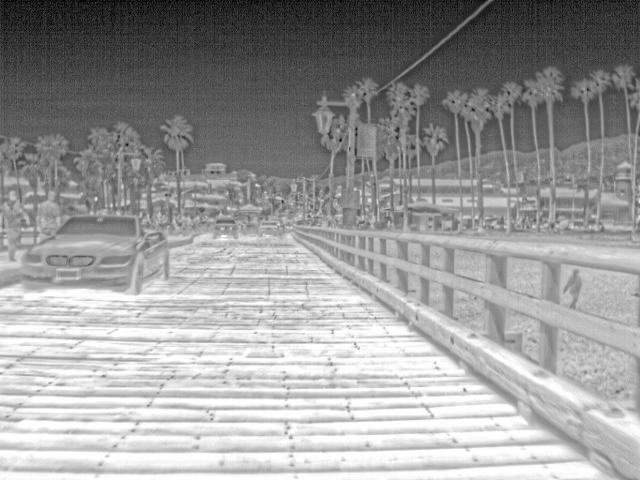car: (19, 214, 169, 294), (212, 215, 238, 239), (256, 220, 284, 237)
person: (2, 184, 32, 262), (33, 188, 64, 250), (561, 268, 581, 310)
